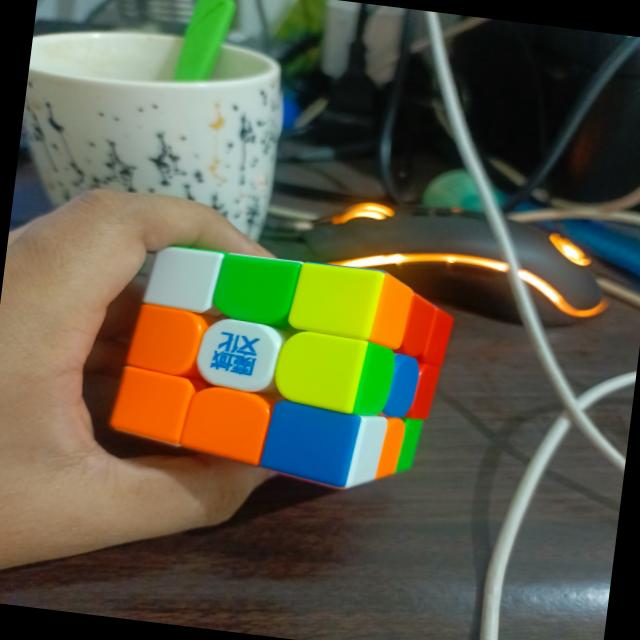rubik: (102, 237, 460, 500)
